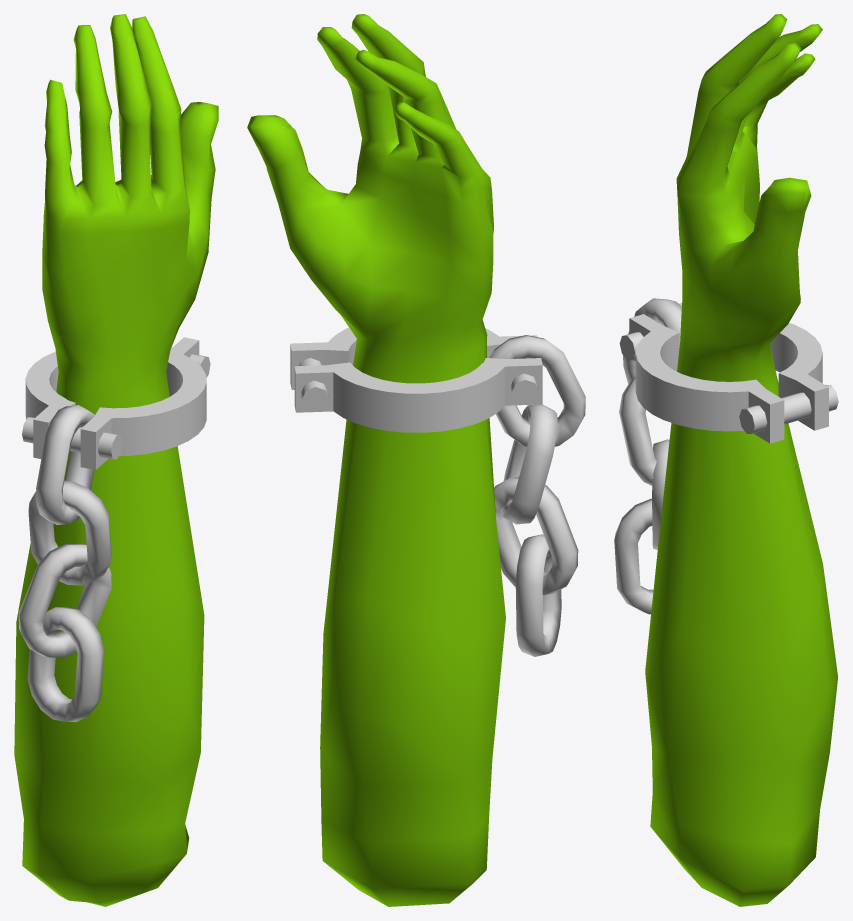
Rendered from RestfulLead.glb.
3 renders of one model, left to right at view 1: azimuth 30°, elevation 25°; view 2: azimuth 150°, elevation 25°; view 3: azimuth 270°, elevation 25°, orthographic. The views are drawn at different scales.
Visible parts, largest first — view 1: Circle.001, Cylinder, Torus.003, Torus.002, Torus.001, Torus, Cylinder.001; view 2: Circle.001, Cylinder, Torus.002, Torus.003, Torus, Torus.001, Cylinder.001; view 3: Circle.001, Cylinder, Torus.003, Torus.001, Cylinder.001, Torus, Torus.002.
Part boxes in pixels (<box>): Circle.001: <box>14,14,218,906</box>; Cylinder: <box>25,337,206,469</box>; Torus.003: <box>27,607,104,721</box>; Torus.002: <box>18,544,111,657</box>; Torus.001: <box>28,480,111,585</box>; Torus: <box>36,405,94,525</box>; Cylinder.001: <box>22,354,210,459</box>; Circle.001: <box>247,14,505,906</box>; Cylinder: <box>290,327,542,432</box>; Torus.002: <box>494,477,578,594</box>; Torus.003: <box>515,534,561,656</box>; Torus: <box>489,335,585,446</box>; Torus.001: <box>501,404,557,524</box>; Cylinder.001: <box>299,358,538,411</box>; Circle.001: <box>645,14,837,906</box>; Cylinder: <box>629,303,828,443</box>; Torus.003: <box>614,498,653,614</box>; Torus.001: <box>619,377,656,485</box>; Cylinder.001: <box>619,332,838,433</box>; Torus: <box>623,298,681,383</box>; Torus.002: <box>652,439,669,549</box>.
Size of the model in its own units: 0.3292 by 1.06 by 0.242.
